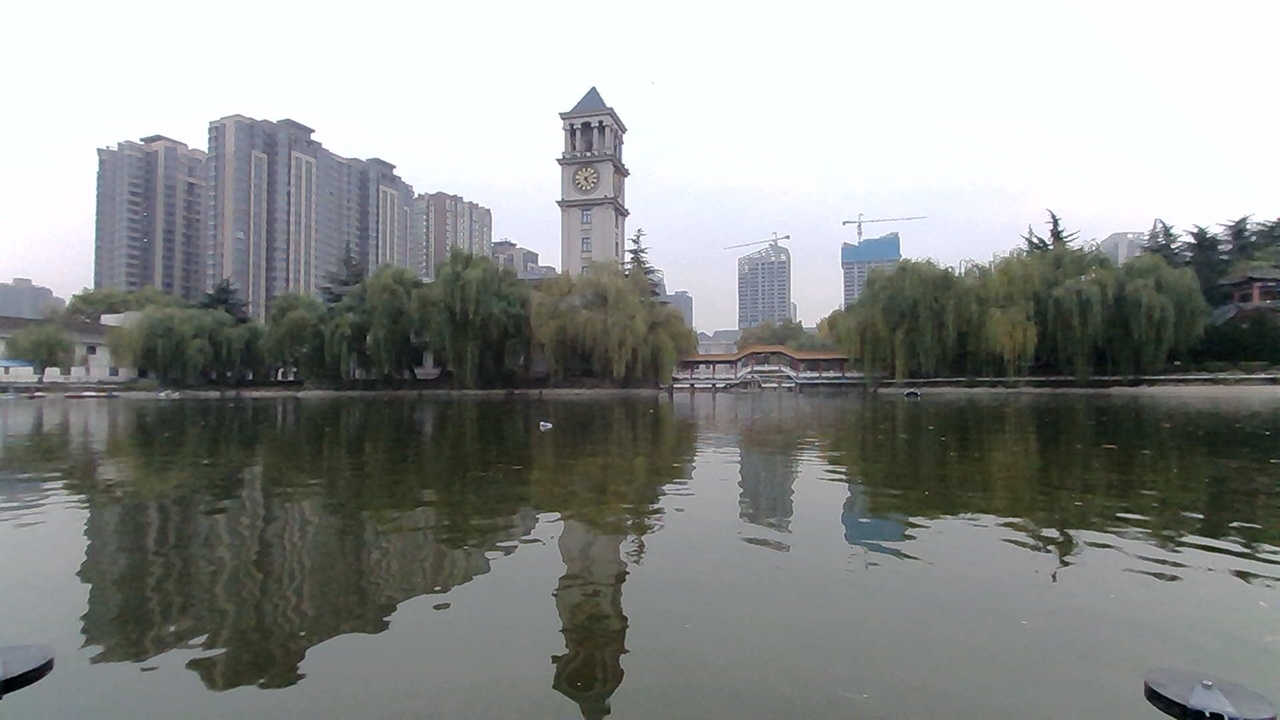bottle: (533, 412, 573, 440)
